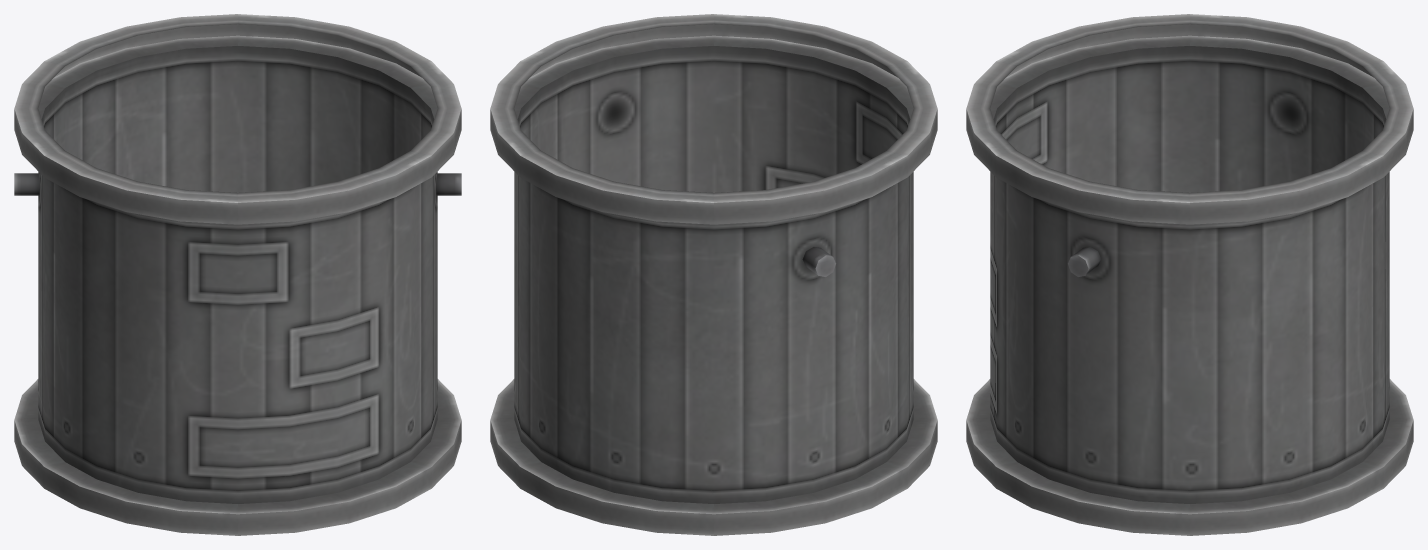
Rendered from 1mv_avionics_s0_1.obj.
3 renders of one model, left to right at view 1: azimuth 30°, elevation 25°; view 2: azimuth 150°, elevation 25°; view 3: azimuth 270°, elevation 25°, orthographic.
Visible parts, largest first — view 1: mesh1; view 2: mesh1; view 3: mesh1.
Boxes of the visible parts, left/top/right/bottom form: mesh1: left=14, top=14, right=461, bottom=535; mesh1: left=490, top=14, right=937, bottom=535; mesh1: left=966, top=14, right=1413, bottom=535.
Size of the model in its own units: 0.7 by 0.575 by 0.7.
1 material, 1 textured.
